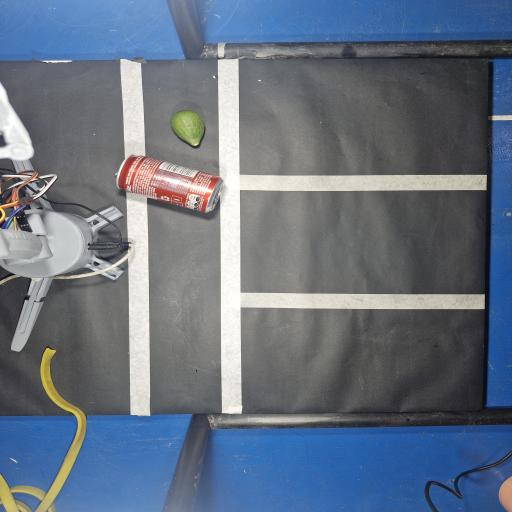higo: (170, 110, 204, 146)
lata: (117, 156, 223, 212)
